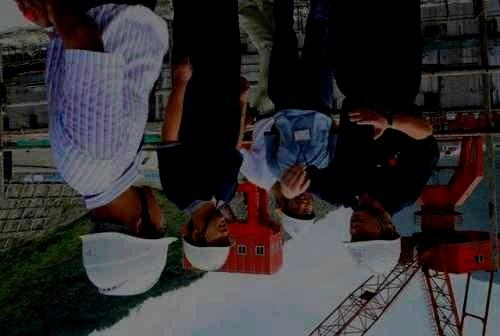helmet: (79, 186, 177, 296), (339, 206, 402, 275), (182, 210, 237, 272), (279, 193, 318, 240)
